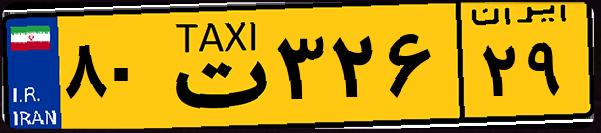0: (110, 28, 158, 98)
2: (330, 28, 385, 110), (475, 38, 525, 113)
3: (270, 28, 330, 110)
6: (385, 28, 445, 110)
8: (57, 26, 110, 100)
9: (525, 38, 570, 115)
ت: (158, 12, 270, 120)
